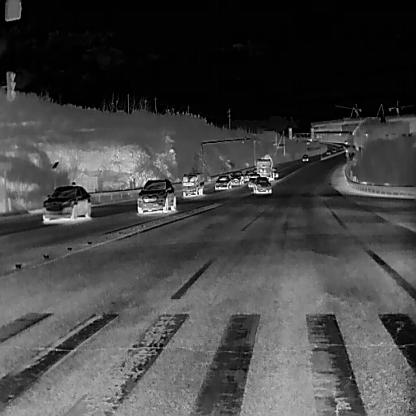car: (42, 184, 91, 222), (137, 177, 176, 213), (252, 176, 272, 193), (214, 173, 231, 190), (229, 170, 244, 185), (247, 172, 261, 188), (243, 168, 255, 182), (271, 166, 278, 178), (301, 154, 308, 162), (331, 147, 336, 152), (325, 149, 330, 154), (344, 148, 348, 153), (343, 140, 347, 144), (338, 146, 342, 150), (332, 144, 336, 148)
truck: (181, 170, 204, 198), (254, 152, 274, 180), (354, 143, 359, 149)
